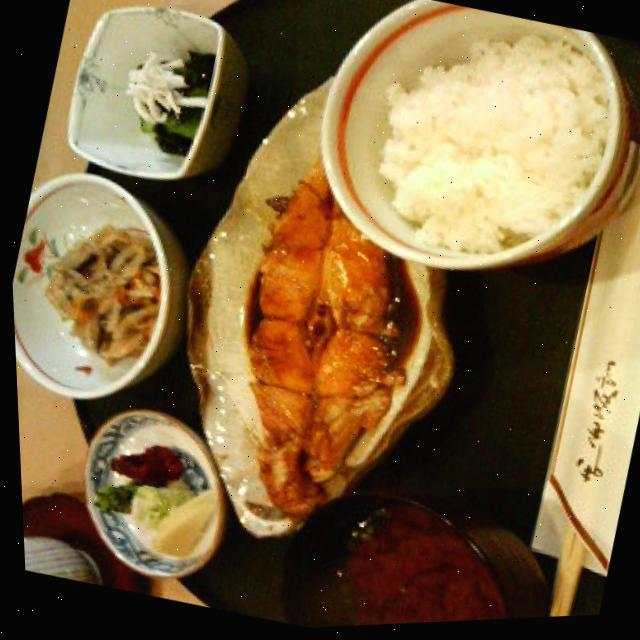熟制海鲜: (180, 128, 457, 549)
